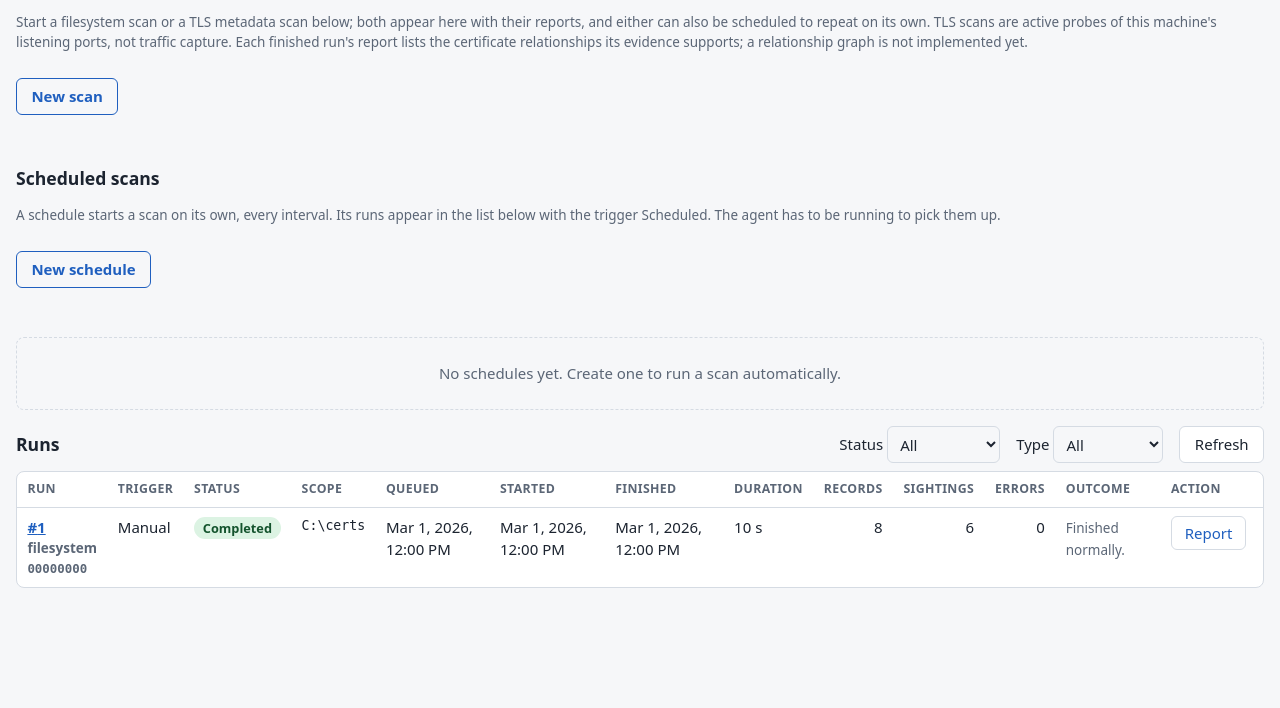
it: the scan form does not dominate the page › does not close again by itself after the user opened it
Expected: the table is shown, [17,472,1263,587]
Click the heading "New scan".
click(67, 96)  # box [16,78,118,115]
(page scrolled)
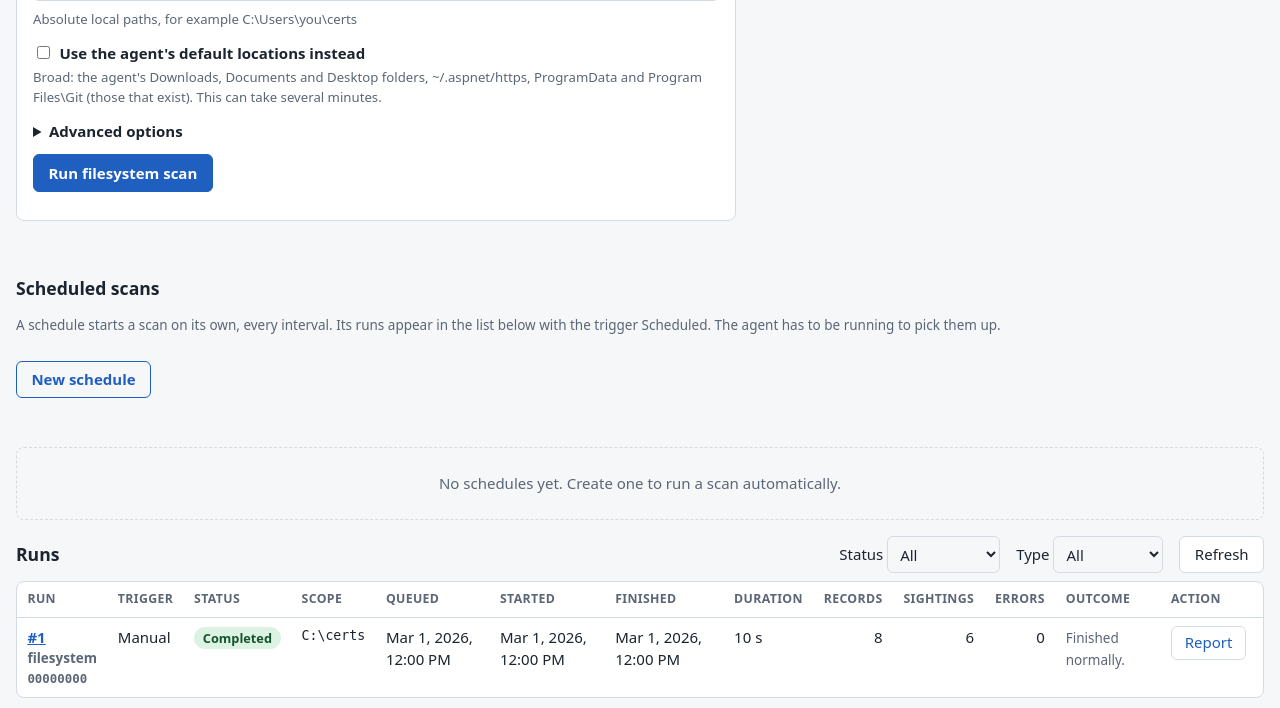
Click the button "Refresh".
click(1222, 555)  # box [1180,536,1264,573]
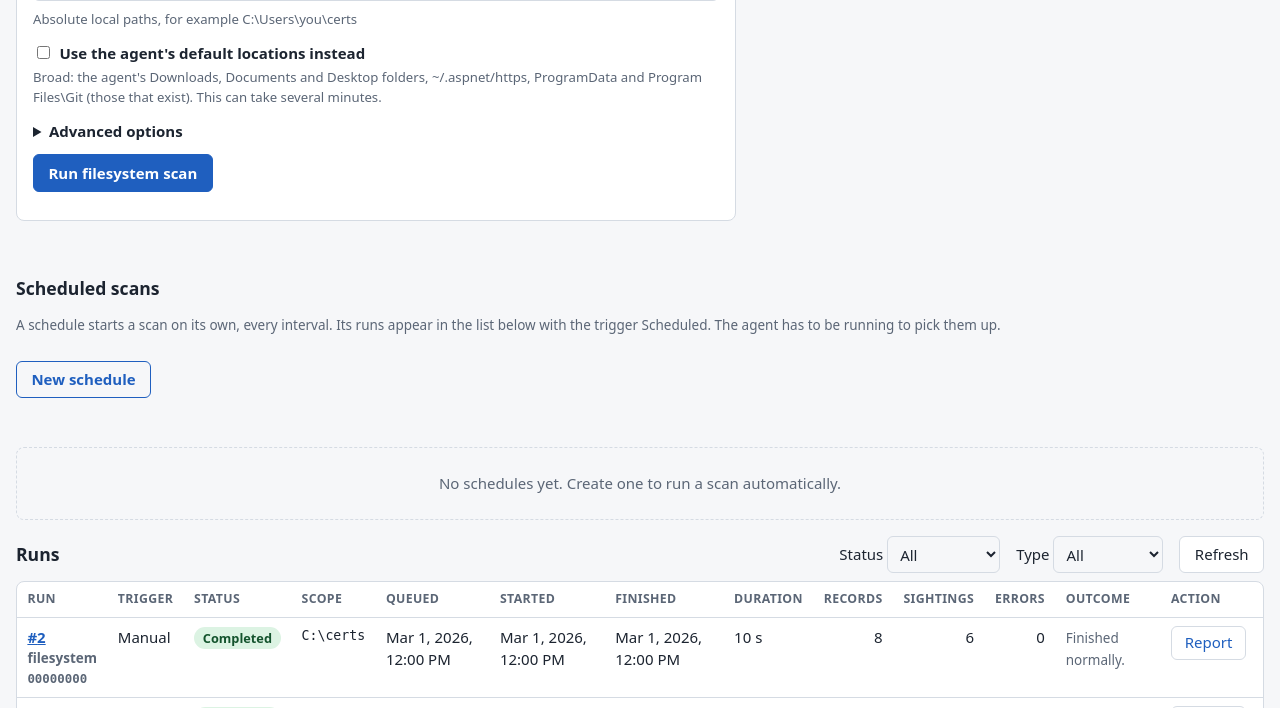
Now the row "#2" is shown, box [17,618,1263,698]
